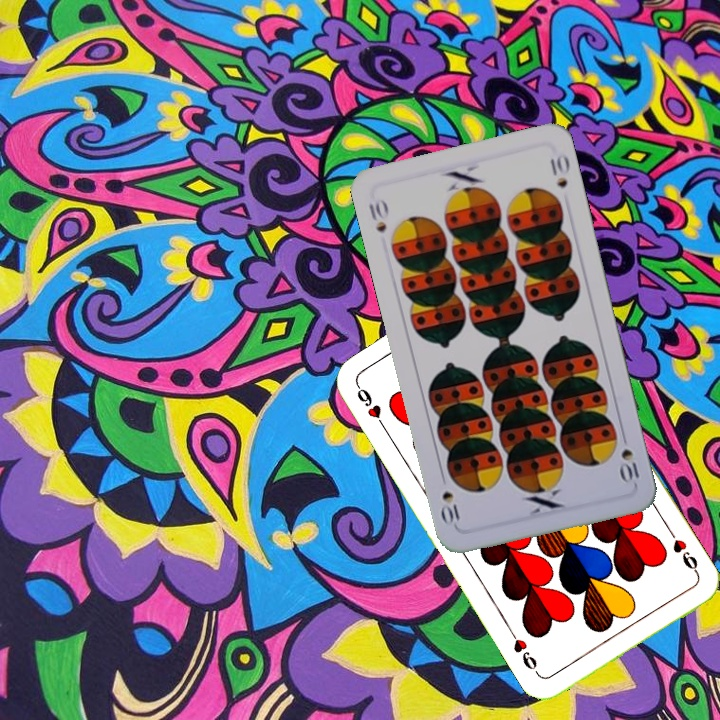H9: (664, 526, 702, 579), (351, 379, 389, 432)
S10: (616, 428, 644, 487), (364, 195, 391, 236)
